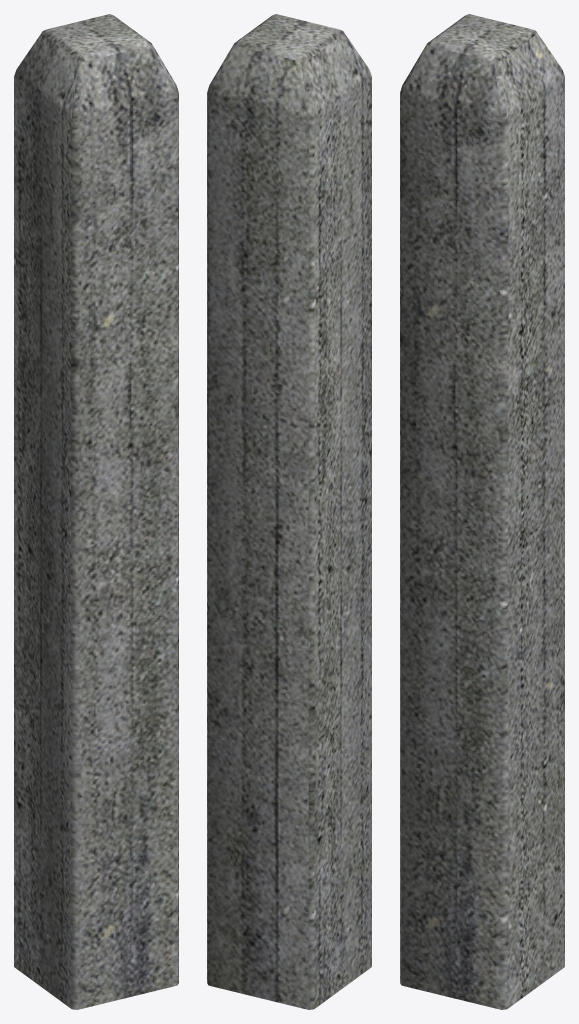
Rendered from fencePost02.FBX.
3 renders of one model, left to right at view 1: azimuth 30°, elevation 25°; view 2: azimuth 150°, elevation 25°; view 3: azimuth 330°, elevation 25°, orthographic.
Visible parts, largest first — view 1: metal_fence_column_1; view 2: metal_fence_column_1; view 3: metal_fence_column_1.
Part boxes in pixels (left/top/right/bottom): metal_fence_column_1: left=14, top=14, right=178, bottom=1009; metal_fence_column_1: left=207, top=14, right=371, bottom=1009; metal_fence_column_1: left=400, top=14, right=564, bottom=1009.
Size of the model in its own units: 30.31 by 254 by 30.31.
